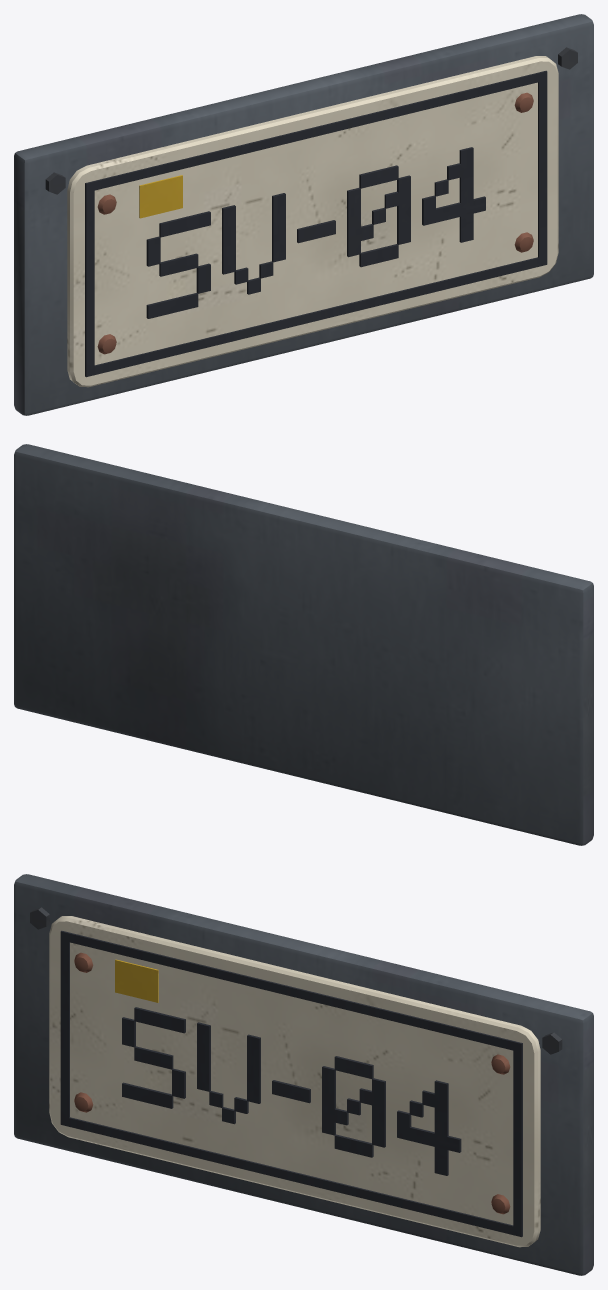
The model's file is license_plate.glb.
3 views of the same model, one above another, from view 1: azimuth 30°, elevation 25°; view 2: azimuth 150°, elevation 25°; view 3: azimuth 330°, elevation 25° (orthographic).
Parts seen in each view (by area): view 1: LicensePlateBody; view 2: LicensePlateBody; view 3: LicensePlateBody.
Boxes of the visible parts, x1,y1,x2,y2 form: LicensePlateBody: (14, 14, 593, 415); LicensePlateBody: (14, 444, 593, 845); LicensePlateBody: (14, 874, 593, 1275).
Size of the model in its own units: 0.48 by 0.208 by 0.0308.
Materials: 6 (6 with a texture image).
